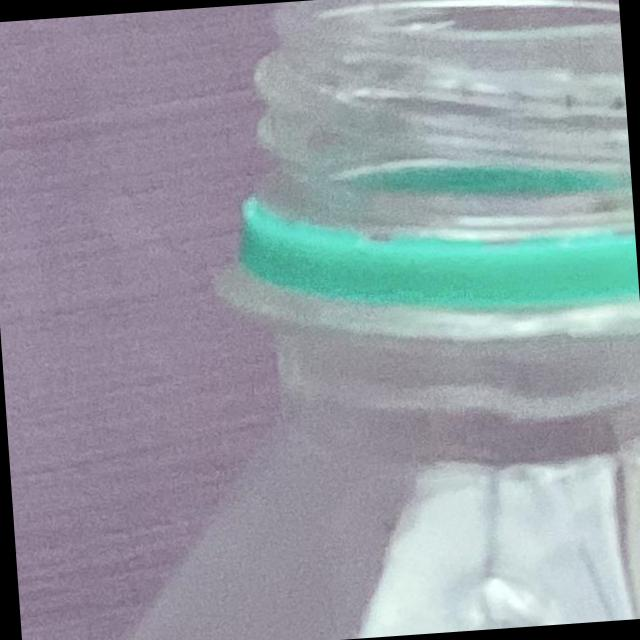open-cap: (186, 0, 640, 382)
